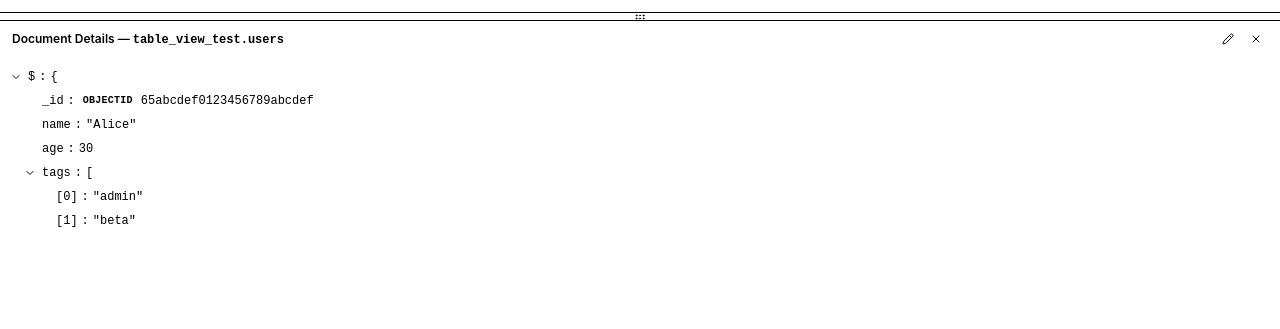
Test: QuickLookPanel › document mode › edit mode (sprint-194 FB-4 document) › [AC-194-03-2] entering edit mode swaps the BSON tree for per-field inputs
The width and height of the screenshot is (1280, 329).
Expected: the element named "BSON document tree" is shown, [8,69,314,229]
Click the button named "Toggle edit mode" at [1228, 39], box [1216,27,1240,51]
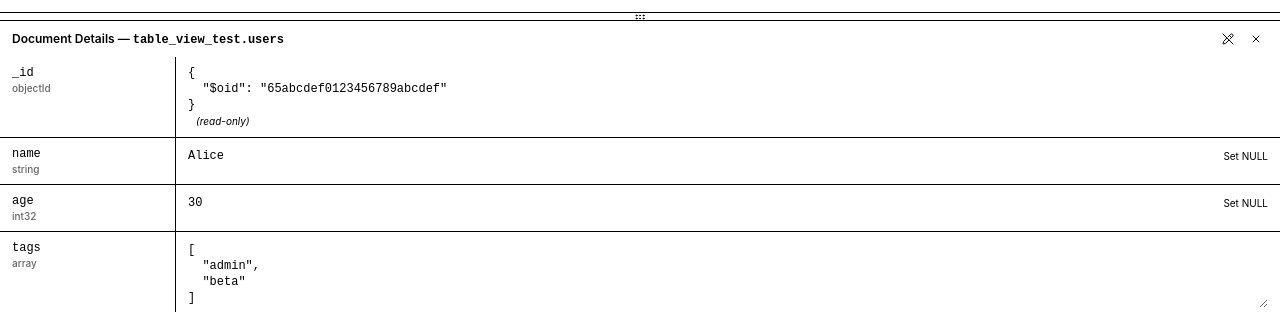
Result: the element "BSON document tree" is gone
Result: the field named "Edit value for name" is shown at [188,146,1215,166]
Result: the field named "Edit value for age" is shown at [188,193,1215,213]
